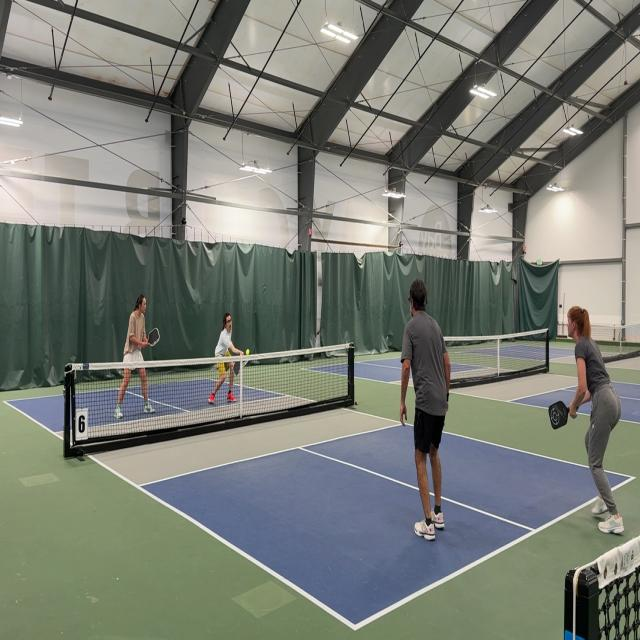ball: (245, 348, 250, 356)
